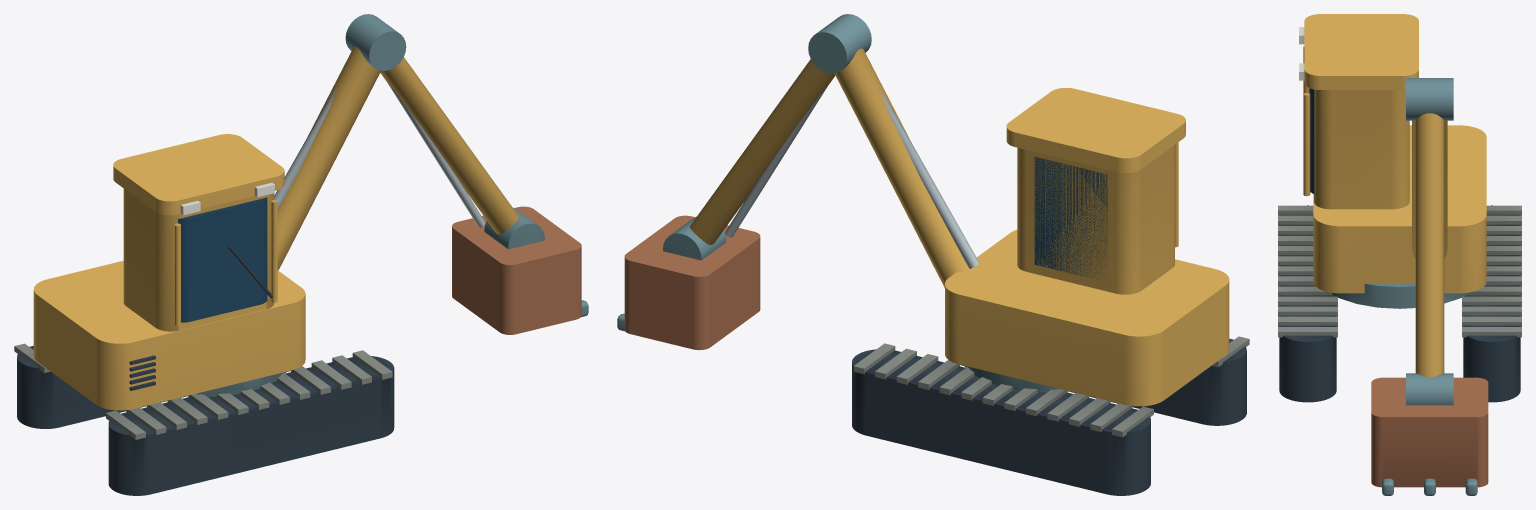
File: excavator.glb
3 views of the same model, side by side, from view 1: azimuth 30°, elevation 25°; view 2: azimuth 150°, elevation 25°; view 3: azimuth 270°, elevation 25° (orthographic). The views are drawn at different scales.
Parts seen in each view (by area): view 1: yellow excavator body, continuous rubber track, excavator bucket, cab glazing, track tread, track wheel, hydraulic ram; view 2: yellow excavator body, continuous rubber track, excavator bucket, cab glazing, track tread, track wheel, hydraulic ram; view 3: yellow excavator body, excavator bucket, track tread, continuous rubber track, track wheel, cab glazing.
Part boxes in pixels (x1,y1,x2,y2): yellow excavator body: (33,47,519,410); continuous rubber track: (17,245,394,495); excavator bucket: (452,206,581,334); cab glazing: (178,197,267,322); track tread: (14,343,392,439); track wheel: (186,14,588,397); hydraulic ram: (274,81,485,227); yellow excavator body: (690,48,1229,406); continuous rubber track: (852,338,1246,495); excavator bucket: (624,215,760,350); cab glazing: (1034,157,1107,281); track tread: (853,336,1249,437); track wheel: (617,14,1069,392); hydraulic ram: (725,83,979,268); yellow excavator body: (1303,14,1486,376); excavator bucket: (1371,377,1488,487); track tread: (1278,205,1521,337); continuous rubber track: (1279,205,1520,402); track wheel: (1332,78,1477,495); cab glazing: (1309,88,1314,193).
Size of the model in its own units: 5 by 3.19 by 2.04.
